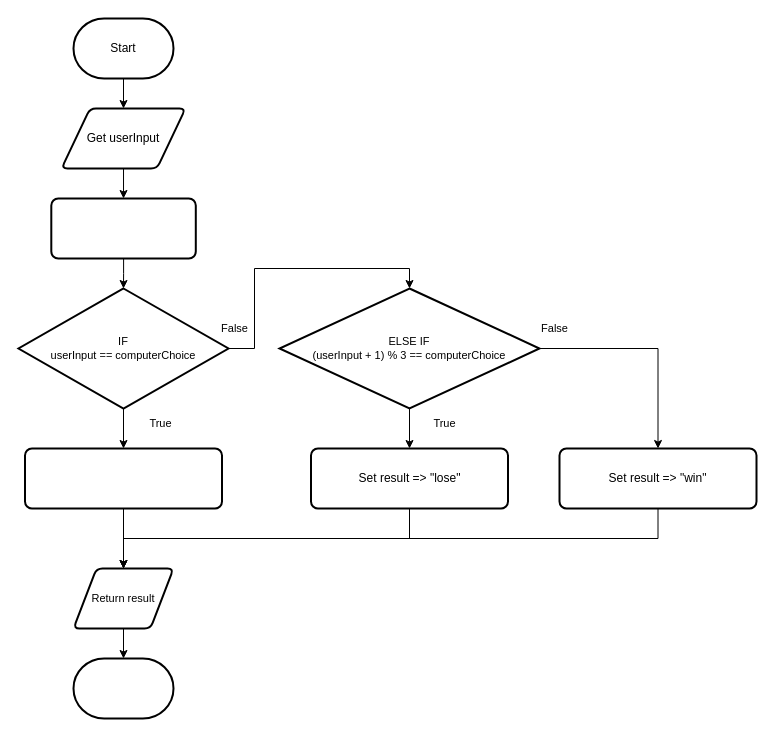
This 774x736 diagram has some shape labels left out. Here are the shapes that lost their labels. From the top down, the box of each, then its label:
(50, 197, 196, 259): Set computerChoice => random interger 0-2
(24, 447, 222, 509): Set result => "tie"
(72, 657, 174, 719): Stop
